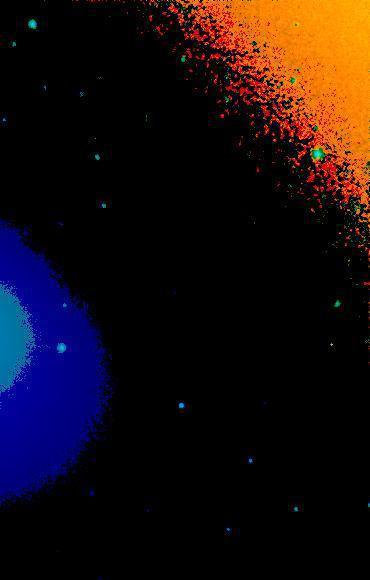star: (314, 328, 344, 358)
